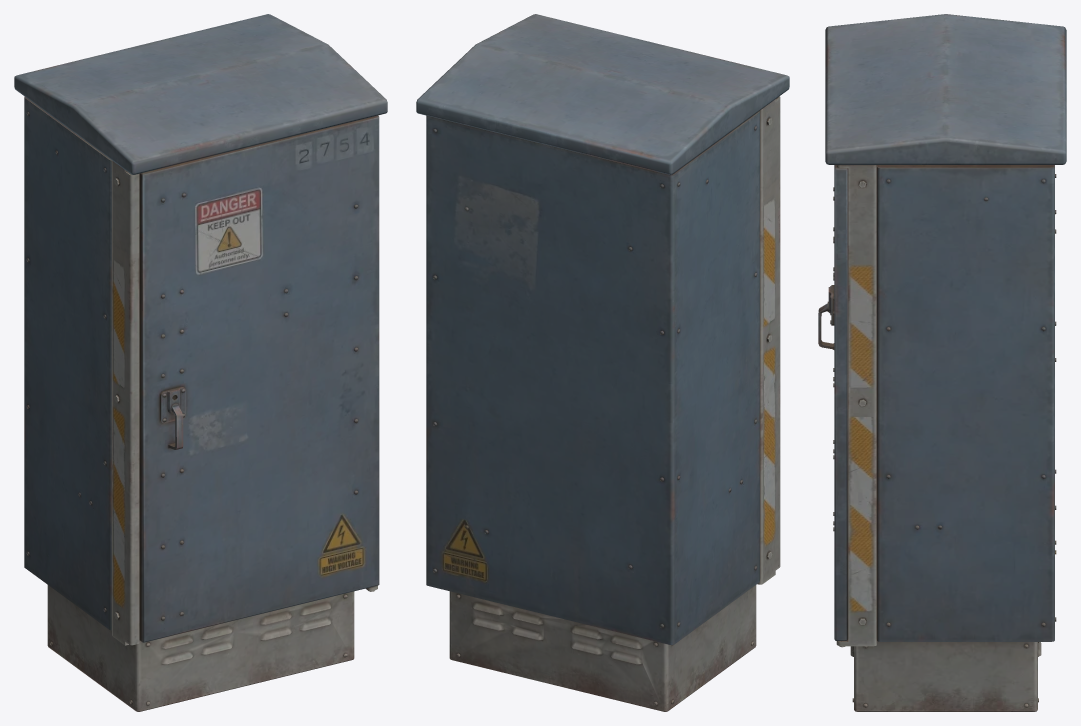
Rendered from utility_box_01.glb.
The picture shows the model from 3 angles, left to right: view 1: azimuth 30°, elevation 25°; view 2: azimuth 150°, elevation 25°; view 3: azimuth 270°, elevation 25°; orthographic projection.
Parts seen in each view (by area): view 1: utility_box_01_box; view 2: utility_box_01_box; view 3: utility_box_01_box.
Part boxes in pixels (bbox=[...]): utility_box_01_box: bbox=[14, 14, 387, 711]; utility_box_01_box: bbox=[416, 14, 789, 711]; utility_box_01_box: bbox=[818, 14, 1066, 711].
Bounding box in the file's own units: 0.52 × 1.12 × 0.432.
Materials: 1 (1 with a texture image).
